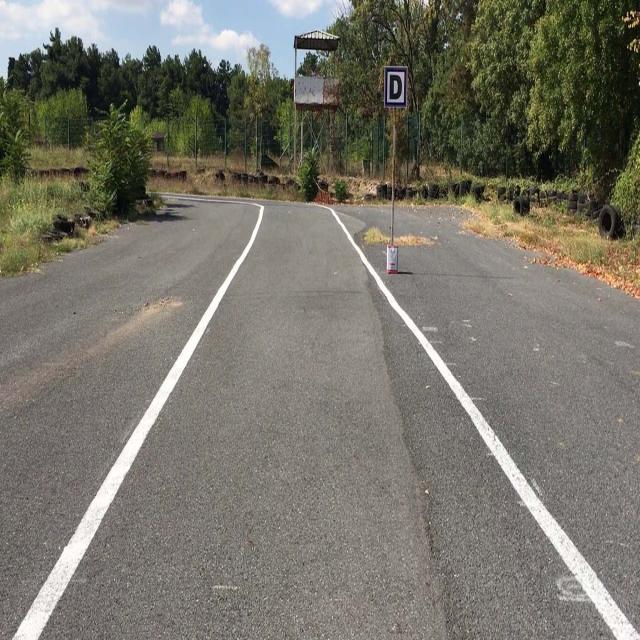durak: (386, 68, 406, 106)
